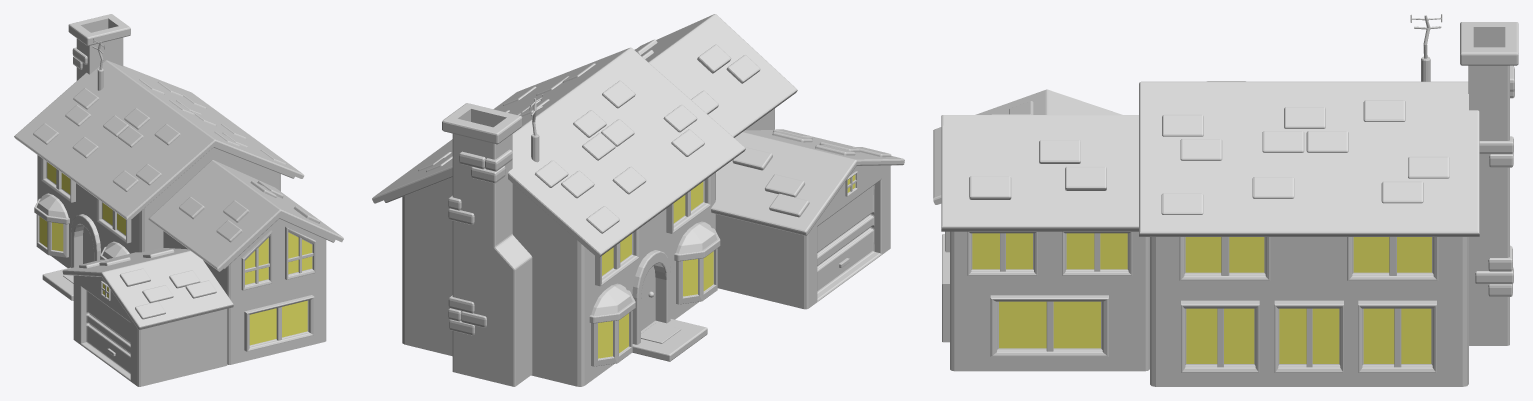
The picture shows the model from 3 angles, left to right: view 1: azimuth 30°, elevation 25°; view 2: azimuth 150°, elevation 25°; view 3: azimuth 270°, elevation 25°; orthographic projection. The views are drawn at different scales.
Visible parts, largest first — view 1: polySurface48, polySurface47; view 2: polySurface48, polySurface47; view 3: polySurface48, polySurface47.
Part boxes in pixels (x1=…): polySurface48: x1=14, y1=14, x2=343, y2=386; polySurface47: x1=39, y1=162, x2=312, y2=345; polySurface48: x1=372, y1=14, x2=904, y2=386; polySurface47: x1=598, y1=175, x2=855, y2=358; polySurface48: x1=933, y1=14, x2=1518, y2=386; polySurface47: x1=972, y1=233, x2=1431, y2=363.
Bounding box in the file's own units: 353 × 292 × 508.
